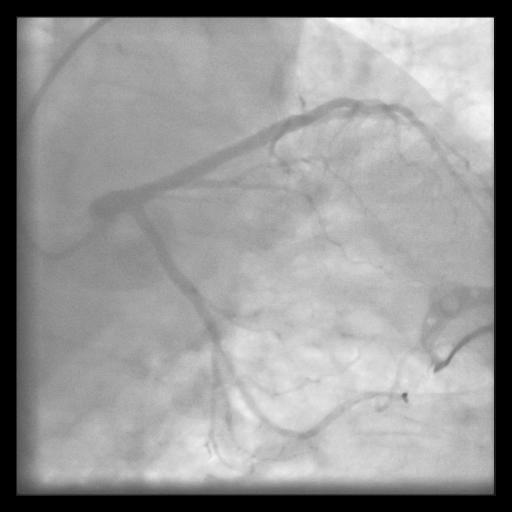Stenosis: (219, 344, 252, 397)
